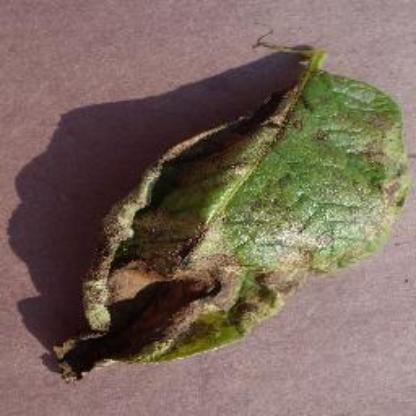Late-Blight: (52, 42, 408, 370)
